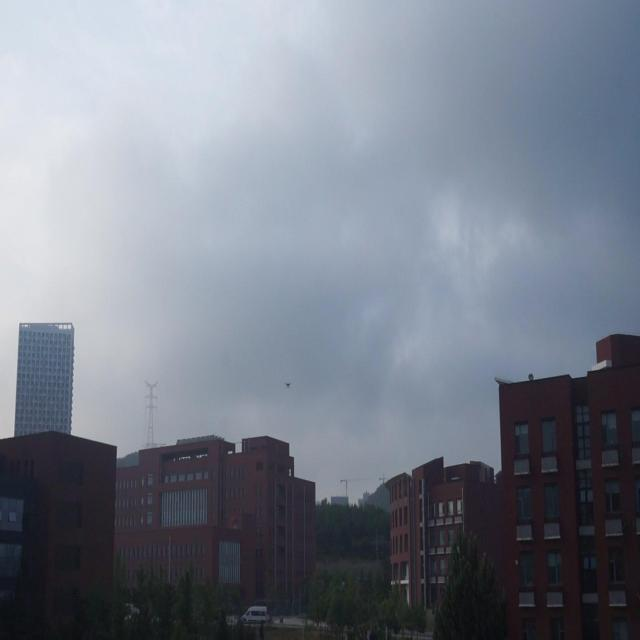drone: (282, 377, 294, 393)
